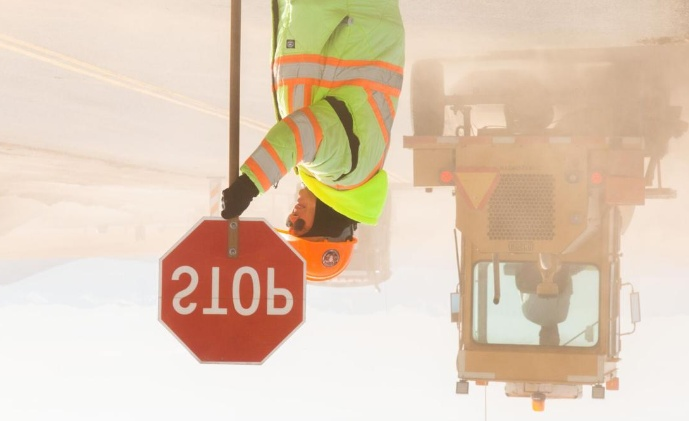Stop: (149, 210, 309, 373)
